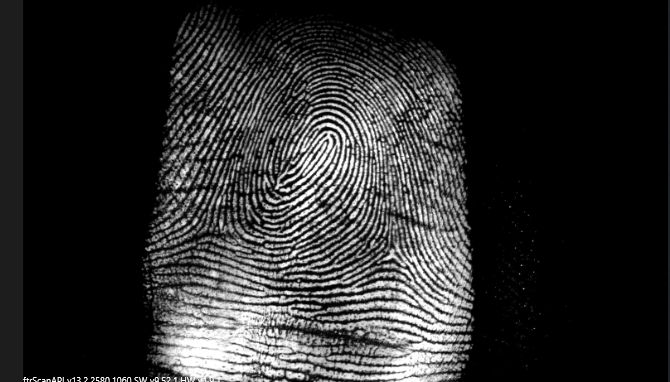nucelo: (311, 124, 343, 165)
verticilo: (376, 241, 410, 268), (197, 221, 226, 247)
